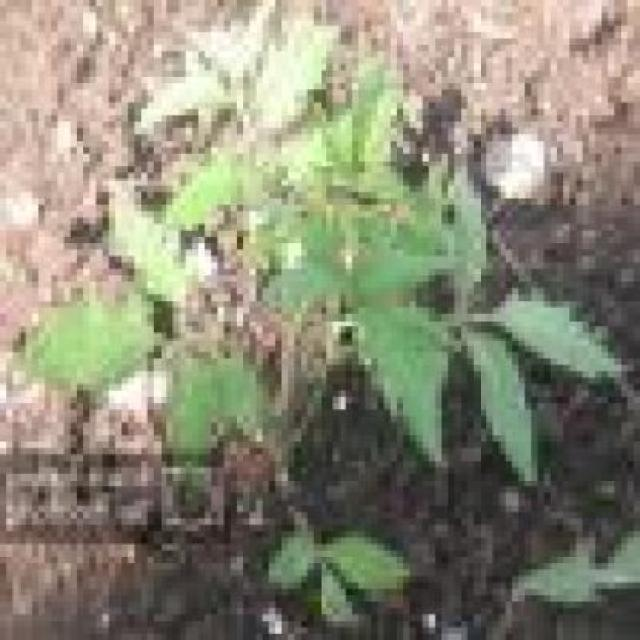Tomato leaf bacterial spot: (358, 302, 454, 480), (18, 295, 160, 411), (486, 282, 628, 391), (103, 186, 192, 314), (153, 352, 224, 512), (243, 20, 340, 128), (154, 154, 243, 243), (346, 58, 403, 180), (346, 243, 462, 302), (320, 525, 415, 589), (455, 160, 494, 308), (211, 358, 263, 454), (270, 261, 352, 314), (276, 128, 338, 192), (255, 525, 320, 583), (308, 109, 352, 186), (314, 569, 358, 628), (352, 166, 416, 205)
